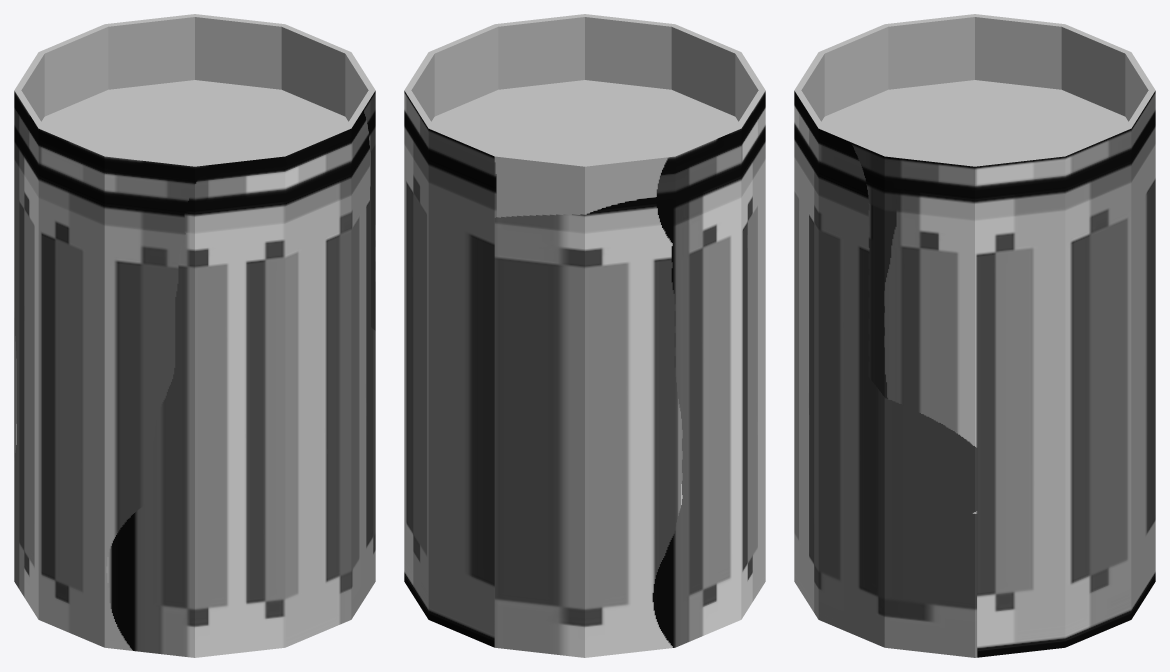
File: trashcan.glb
3 renders of one model, left to right at view 1: azimuth 30°, elevation 25°; view 2: azimuth 150°, elevation 25°; view 3: azimuth 270°, elevation 25°, orthographic.
Visible parts, largest first — view 1: Cylinder; view 2: Cylinder; view 3: Cylinder.
Part boxes in pixels (bbox=[...]): Cylinder: bbox=[14, 14, 375, 657]; Cylinder: bbox=[404, 14, 765, 657]; Cylinder: bbox=[794, 14, 1155, 657].
Size of the model in its own units: 2 by 3 by 2.
Materials: 1 (1 with a texture image).
